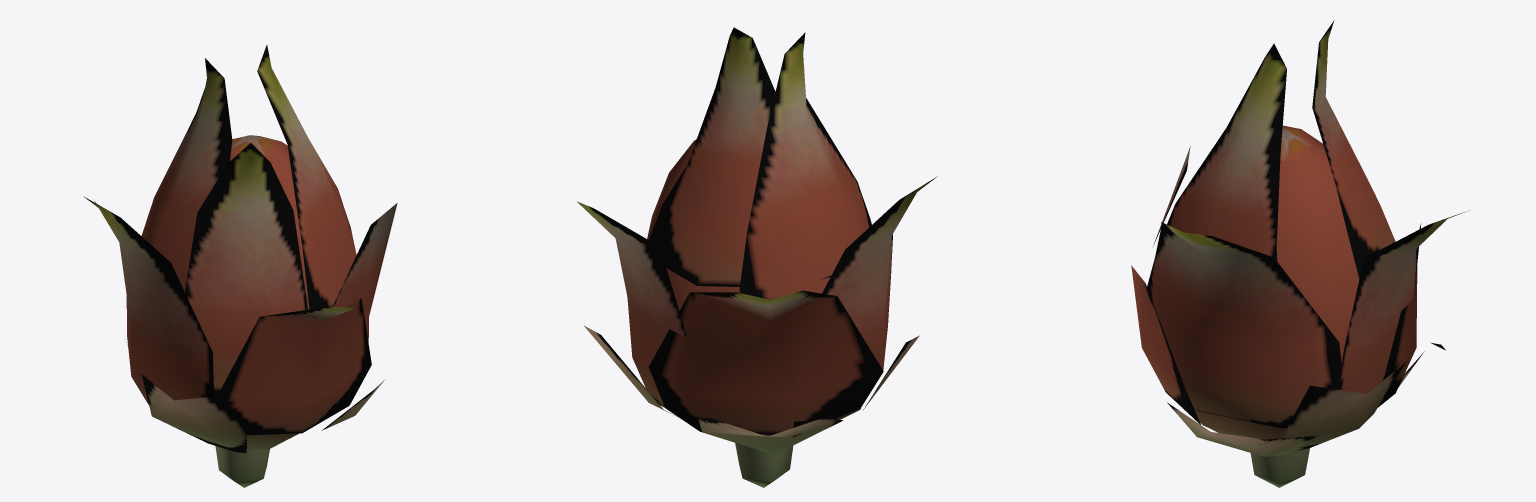
Rendered from Obj_FruitPitaya_A_01.glb.
The picture shows the model from 3 angles, left to right: view 1: azimuth 30°, elevation 25°; view 2: azimuth 150°, elevation 25°; view 3: azimuth 270°, elevation 25°; orthographic projection. The views are drawn at different scales.
Visible parts, largest first — view 1: Obj_FruitPitaya_A_01; view 2: Obj_FruitPitaya_A_01; view 3: Obj_FruitPitaya_A_01.
Boxes of the visible parts, x1,y1,x2,y2 form: Obj_FruitPitaya_A_01: (83, 45, 397, 487); Obj_FruitPitaya_A_01: (577, 27, 937, 487); Obj_FruitPitaya_A_01: (1131, 20, 1469, 487).
Size of the model in its own units: 0.6392 by 0.7946 by 0.7744.
Materials: 1 (1 with a texture image).
